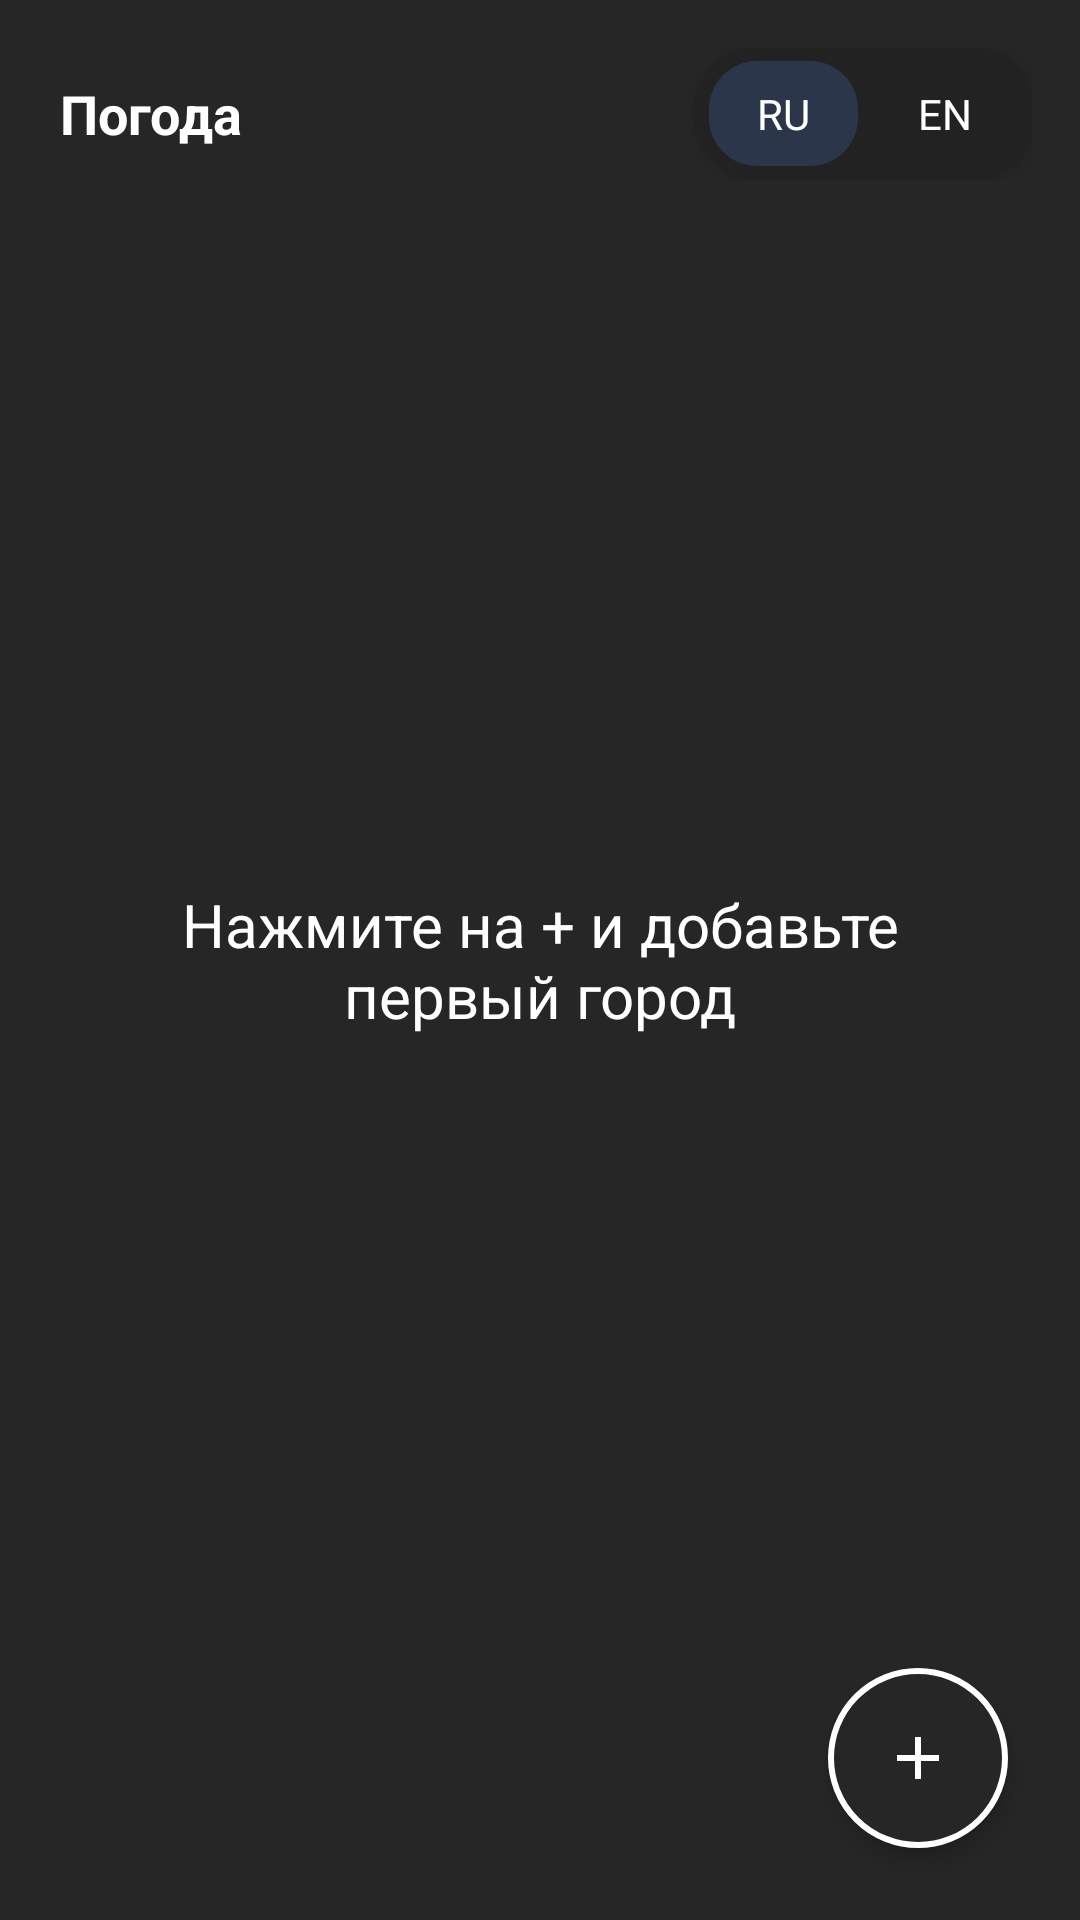

Named icons in this screenshot (1080*1920) and their centers, [x,y]:
Добавить: [918,1758]
